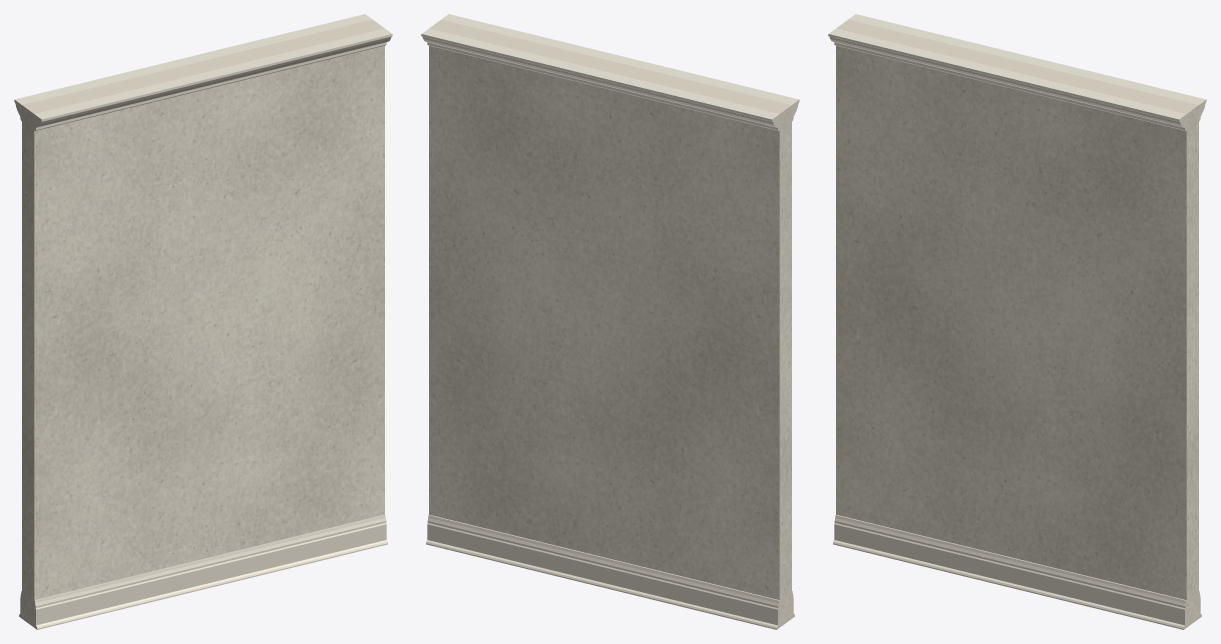
File: interior_wall_plain.glb
The picture shows the model from 3 angles, left to right: view 1: azimuth 30°, elevation 25°; view 2: azimuth 150°, elevation 25°; view 3: azimuth 330°, elevation 25°; orthographic projection.
Visible parts, largest first — view 1: interior_wall_plain_plaster, molduras; view 2: interior_wall_plain_plaster, molduras; view 3: interior_wall_plain_plaster, molduras.
Boxes of the visible parts, left/top/right/bottom form: interior_wall_plain_plaster: left=22, top=19, right=384, bottom=627; molduras: left=14, top=14, right=392, bottom=629; interior_wall_plain_plaster: left=429, top=19, right=791, bottom=627; molduras: left=421, top=14, right=799, bottom=629; interior_wall_plain_plaster: left=836, top=19, right=1198, bottom=627; molduras: left=828, top=14, right=1206, bottom=629.
Size of the model in its own units: 2 by 2.8 by 0.27.
Materials: 2 (1 with a texture image).
